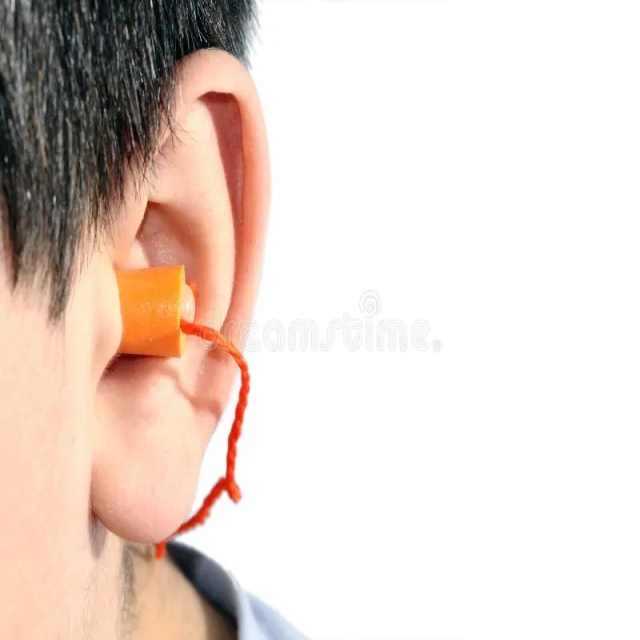Hearing_Protection: (111, 256, 227, 361)
